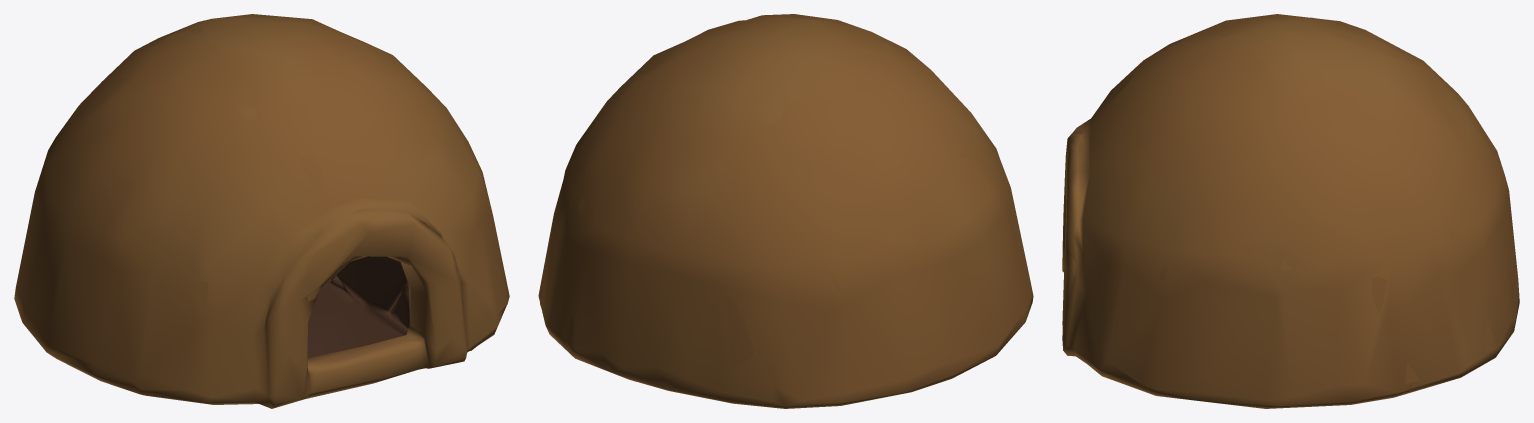
Rendered from gen3d-adobe-oven-lod0.glb.
The picture shows the model from 3 angles, left to right: view 1: azimuth 30°, elevation 25°; view 2: azimuth 150°, elevation 25°; view 3: azimuth 270°, elevation 25°; orthographic projection.
Visible parts, largest first — view 1: part_0; view 2: part_0; view 3: part_0.
Boxes of the visible parts, left/top/right/bottom form: part_0: left=14, top=14, right=509, bottom=408; part_0: left=538, top=14, right=1033, bottom=408; part_0: left=1062, top=14, right=1519, bottom=408.
Size of the model in its own units: 1.63 by 0.9984 by 1.5.
